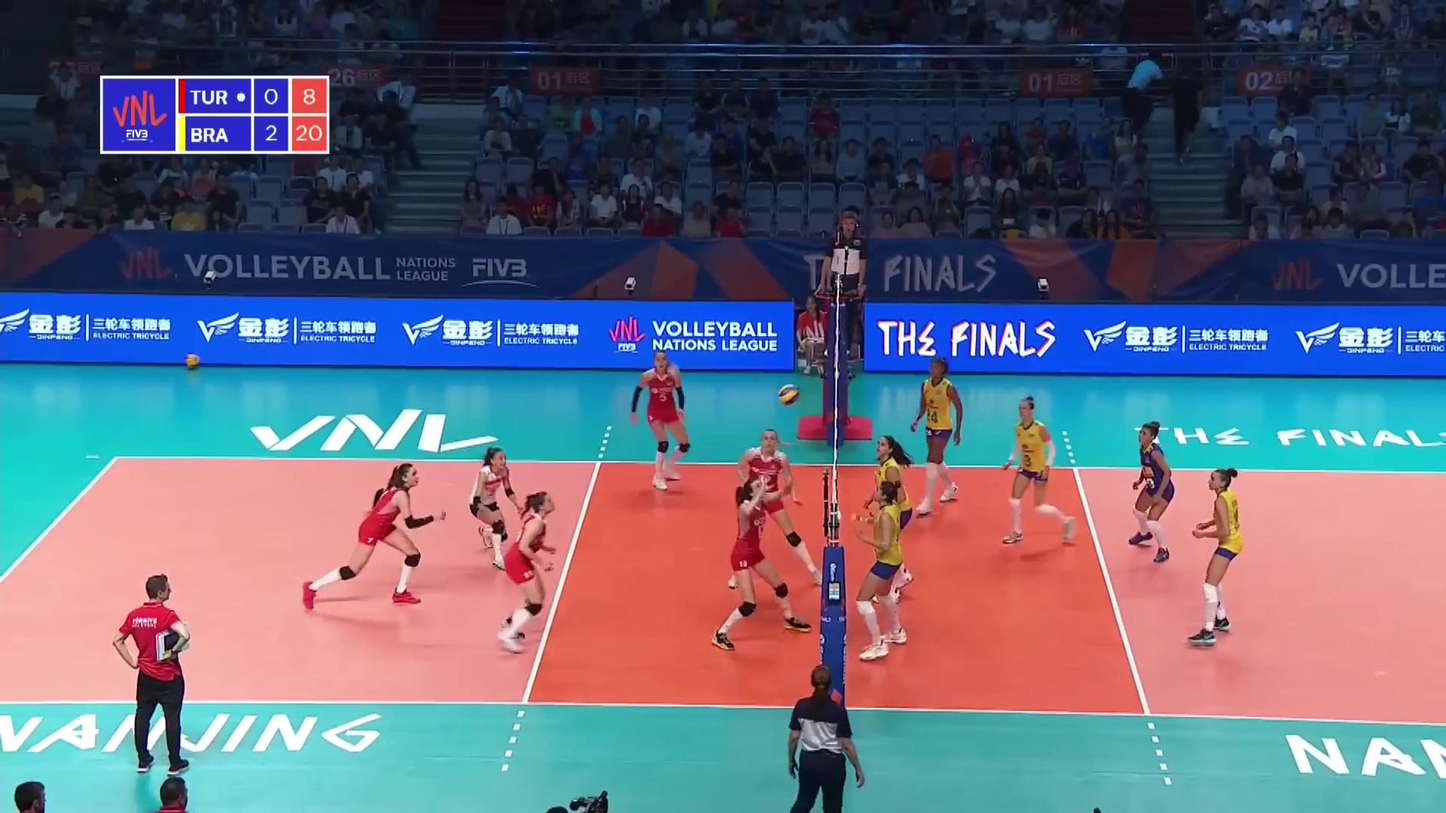player: (300, 463, 446, 609), (712, 474, 810, 651), (728, 429, 830, 589), (1002, 396, 1076, 548), (1189, 467, 1244, 649), (498, 490, 557, 654), (855, 481, 908, 662), (912, 358, 965, 515), (632, 352, 690, 494), (1129, 418, 1176, 564), (873, 436, 914, 602), (469, 448, 524, 566)
refree: (789, 665, 865, 813), (819, 211, 870, 360)
